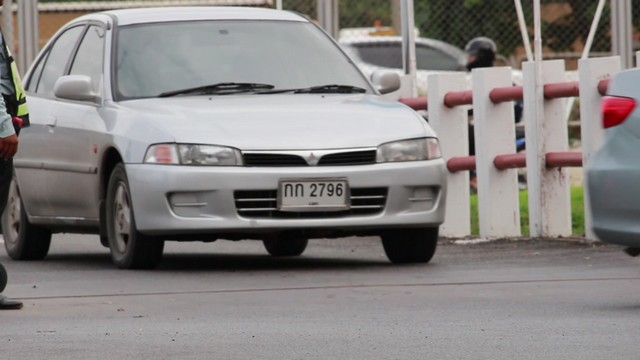in: (281, 182, 345, 206)
out: (277, 177, 350, 212)
